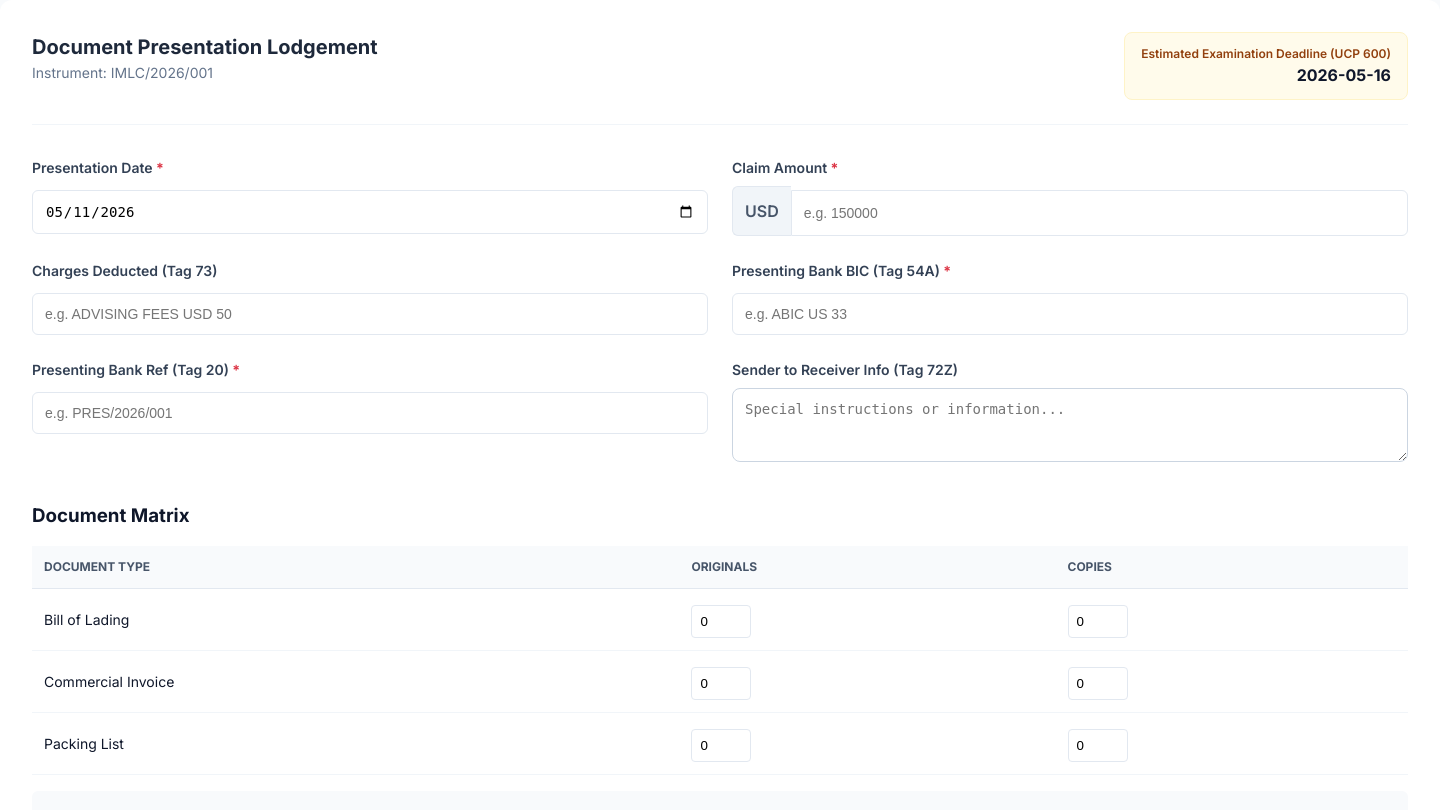
Scenario: PresentationLodgement (REQ-IMP-PRC-03) › Tracks document matrix (Bill of Lading, Invoice, etc.)
Replace the text in the 1st number field named "originals" with "3" at x=721, y=622, box [691,605,751,638]
(page scrolled)
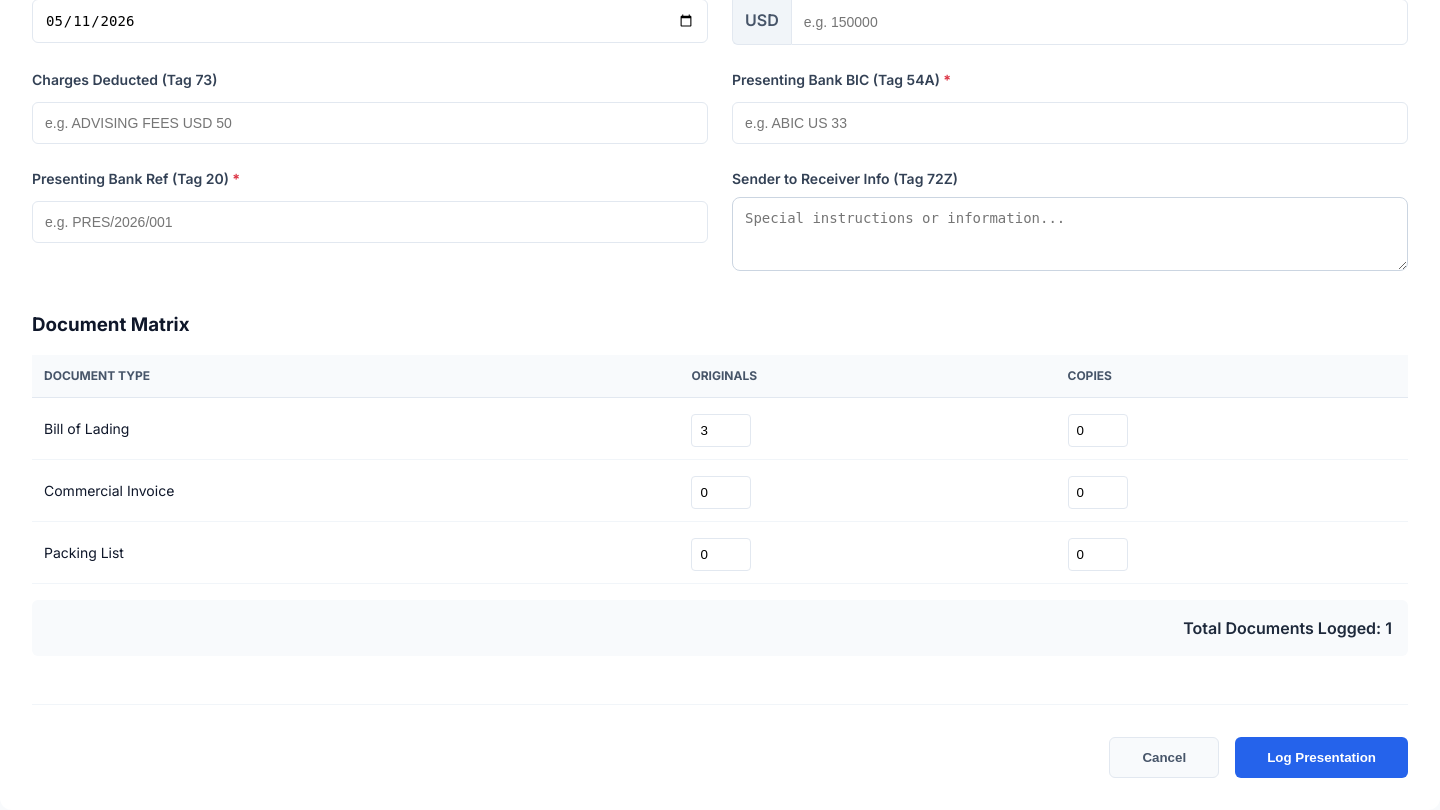
Expected: the text "Total Documents Logged: 1" is shown, [32,600,1408,656]
